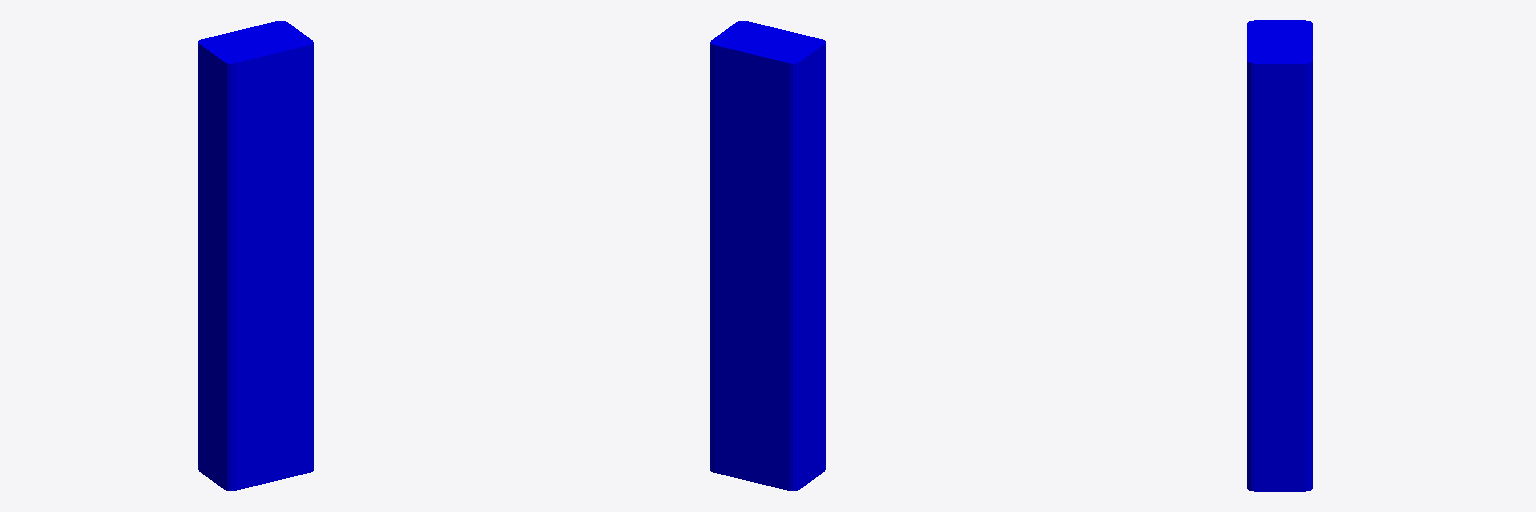
The robot description file, URDF, robot "Small_Long_Rectangle_DarkBlue":
<?xml version="1.0"?>
<robot name="Small_Long_Rectangle_DarkBlue">
    <link name="Small_Long_Rectangle_DarkBlue">
        <visual>
            <geometry>
                <mesh filename="../mesh/factory_insertion/Small_Long_Rectangle_DarkBlue.obj" scale="0.001 0.001 0.001"/>
            </geometry>
            <material name="DarkBlue">
              <color rgba="0 0 1.0 0"/>
            </material>
        </visual>
        <collision>
            <geometry>
                <mesh filename="../mesh/factory_insertion/Small_Long_Rectangle_DarkBlue.obj" scale="0.001 0.001 0.001"/>
            </geometry>
            <sdf resolution="512"/>
        </collision>
    </link>
</robot>

--- Facts derived from the render (not from the file) ---
Views: 3 orthographic renders of the robot side by side, from view 1: azimuth 30°, elevation 25°; view 2: azimuth 150°, elevation 25°; view 3: azimuth 270°, elevation 25°.
Robot: Small_Long_Rectangle_DarkBlue — 1 links, 0 joints (none); root link Small_Long_Rectangle_DarkBlue; default pose: every joint at zero.
Links seen in each view (by area): view 1: Small_Long_Rectangle_DarkBlue; view 2: Small_Long_Rectangle_DarkBlue; view 3: Small_Long_Rectangle_DarkBlue.
Boxes of the visible links, x1,y1,x2,y2 form: Small_Long_Rectangle_DarkBlue: (198, 21, 313, 490); Small_Long_Rectangle_DarkBlue: (710, 21, 825, 490); Small_Long_Rectangle_DarkBlue: (1247, 20, 1312, 491).
Size in the robot's own frame: 0.0324 by 0.0208 by 0.15 metres.
Meshes: 1 distinct files referenced, 1 mesh visuals loaded (1 OBJ).
